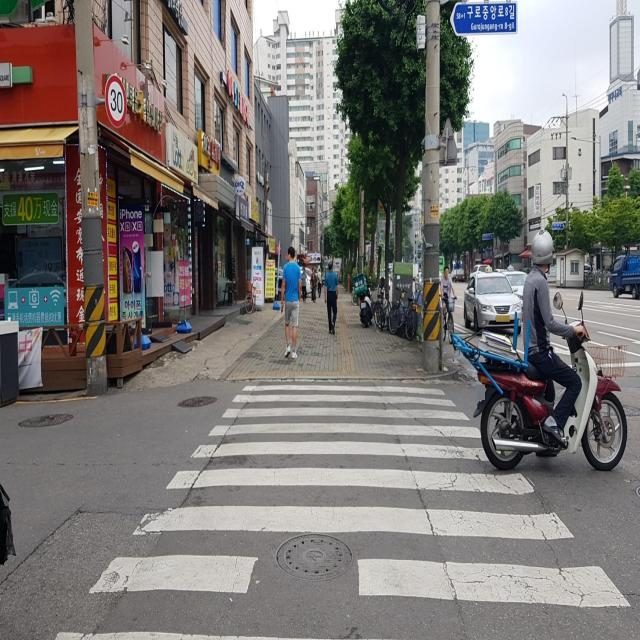횡단보도: (53, 381, 633, 640)
